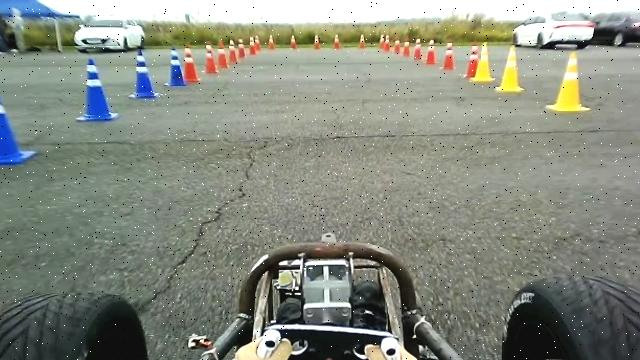blue cone: (0, 74, 37, 166), (75, 57, 118, 122), (127, 48, 158, 99), (163, 47, 186, 86)
red cone: (182, 44, 200, 82), (463, 41, 479, 77), (203, 42, 217, 73), (441, 41, 455, 70), (425, 39, 437, 64), (227, 40, 238, 63), (216, 48, 228, 68), (413, 38, 423, 60), (237, 38, 246, 57), (402, 40, 410, 55), (393, 39, 401, 53)
yellow cone: (545, 50, 590, 112), (494, 44, 524, 93)
